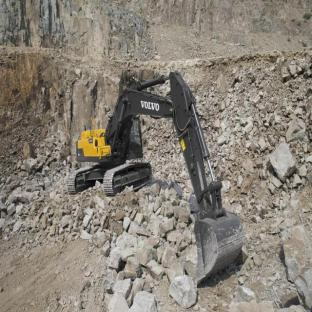ExcavationMachinery: (62, 83, 252, 291)
